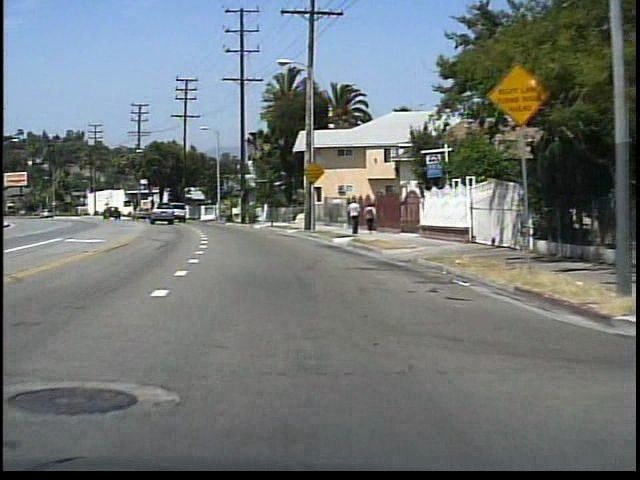person: (345, 197, 362, 238), (361, 200, 378, 234)
